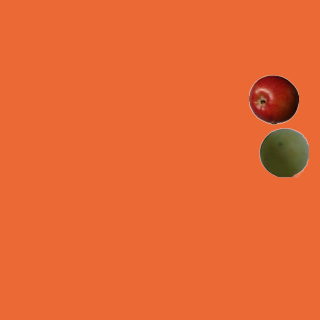Apple Braeburn: (248, 74, 298, 124)
Grape White 4: (258, 127, 308, 177)
